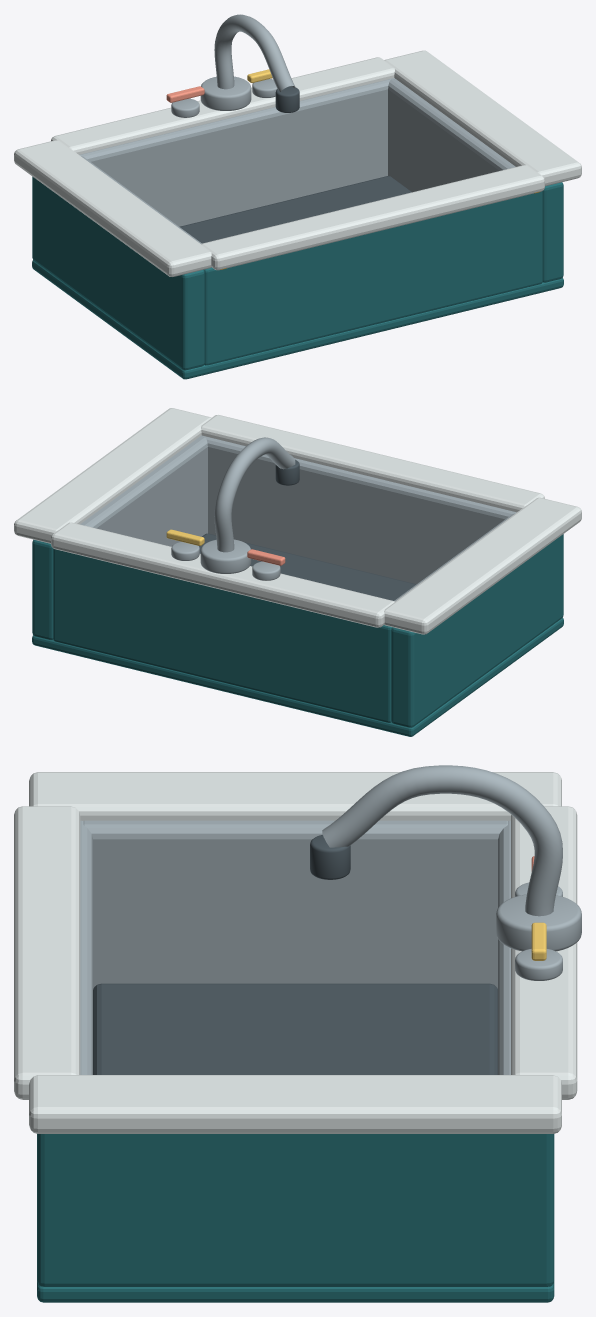
The model's file is SinkBasin.glb.
3 renders of one model, top to bottom at view 1: azimuth 30°, elevation 25°; view 2: azimuth 150°, elevation 25°; view 3: azimuth 270°, elevation 25°, orthographic. The views are drawn at different scales.
Visible parts, largest first — view 1: Sink_CabinetEnd_-1, Sink_BackWall, Sink_CabinetSide_-1, Sink_FrontCounter, Sink_LeftCounter, Sink_RightCounter, Sink_RightWall, Sink_BackCounter, Sink_CabinetBase, Sink_BasinFloor, Sink_FaucetPipe, Sink_CabinetSide_1 (+3 smaller); view 2: Sink_CabinetEnd_1, Sink_FrontWall, Sink_CabinetSide_-1, Sink_LeftCounter, Sink_BackCounter, Sink_RightCounter, Sink_FrontCounter, Sink_RightWall, Sink_CabinetBase, Sink_BasinFloor, Sink_FaucetPipe, Sink_CabinetSide_1 (+4 smaller); view 3: Sink_CabinetSide_1, Sink_LeftWall, Sink_BasinFloor, Sink_RightCounter, Sink_LeftCounter, Sink_FrontCounter, Sink_BackCounter, Sink_FaucetPipe, Sink_CabinetBase, Sink_FaucetBase, Sink_FrontWall, Sink_BackWall (+2 smaller).
Part boxes in pixels (x1,y1,x2,y2): Sink_CabinetEnd_-1: [203, 191, 542, 365]; Sink_BackWall: [79, 78, 394, 226]; Sink_CabinetSide_-1: [32, 176, 204, 370]; Sink_FrontCounter: [201, 165, 544, 270]; Sink_LeftCounter: [14, 140, 211, 276]; Sink_RightCounter: [384, 50, 581, 186]; Sink_RightWall: [388, 79, 515, 192]; Sink_BackCounter: [51, 57, 394, 154]; Sink_CabinetBase: [32, 260, 563, 379]; Sink_BasinFloor: [179, 176, 411, 243]; Sink_FaucetPipe: [214, 14, 295, 91]; Sink_CabinetSide_1: [542, 182, 563, 282]; Sink_CabinetEnd_1: [53, 548, 392, 722]; Sink_FrontWall: [201, 435, 516, 584]; Sink_CabinetSide_-1: [391, 534, 563, 727]; Sink_LeftCounter: [384, 497, 581, 634]; Sink_BackCounter: [51, 522, 394, 627]; Sink_RightCounter: [14, 408, 211, 543]; Sink_FrontCounter: [201, 415, 544, 512]; Sink_RightWall: [80, 436, 207, 546]; Sink_CabinetBase: [32, 618, 563, 736]; Sink_BasinFloor: [199, 533, 416, 600]; Sink_FaucetPipe: [214, 437, 295, 552]; Sink_CabinetSide_1: [32, 539, 53, 639]; Sink_CabinetSide_1: [37, 1134, 554, 1286]; Sink_LeftWall: [83, 820, 507, 989]; Sink_BasinFloor: [93, 983, 497, 1074]; Sink_RightCounter: [29, 1075, 561, 1133]; Sink_LeftCounter: [29, 772, 561, 820]; Sink_FrontCounter: [14, 806, 80, 1099]; Sink_BackCounter: [511, 806, 577, 1099]; Sink_FaucetPipe: [322, 765, 562, 916]; Sink_CabinetBase: [37, 1281, 554, 1302]; Sink_FaucetBase: [496, 894, 581, 951]; Sink_FrontWall: [80, 820, 92, 1074]; Sink_BackWall: [498, 820, 510, 1074].
Size of the model in its own units: 12.81 by 6.66 by 9.
